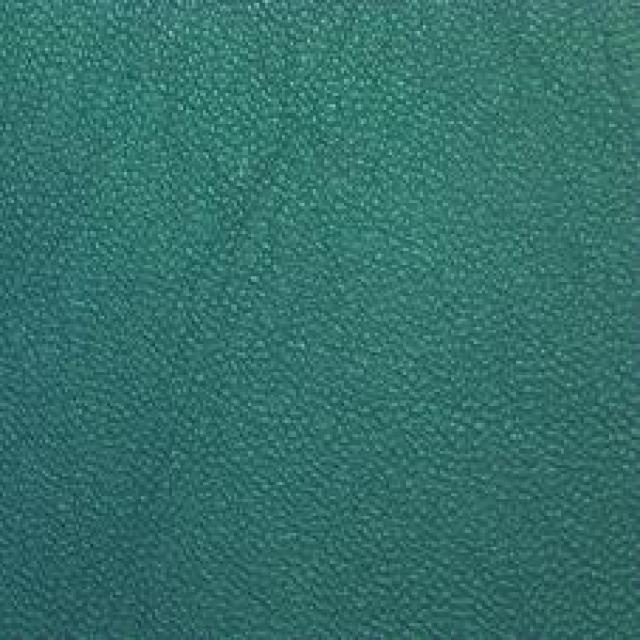Growth Marks: (186, 55, 327, 325), (109, 359, 227, 590)
